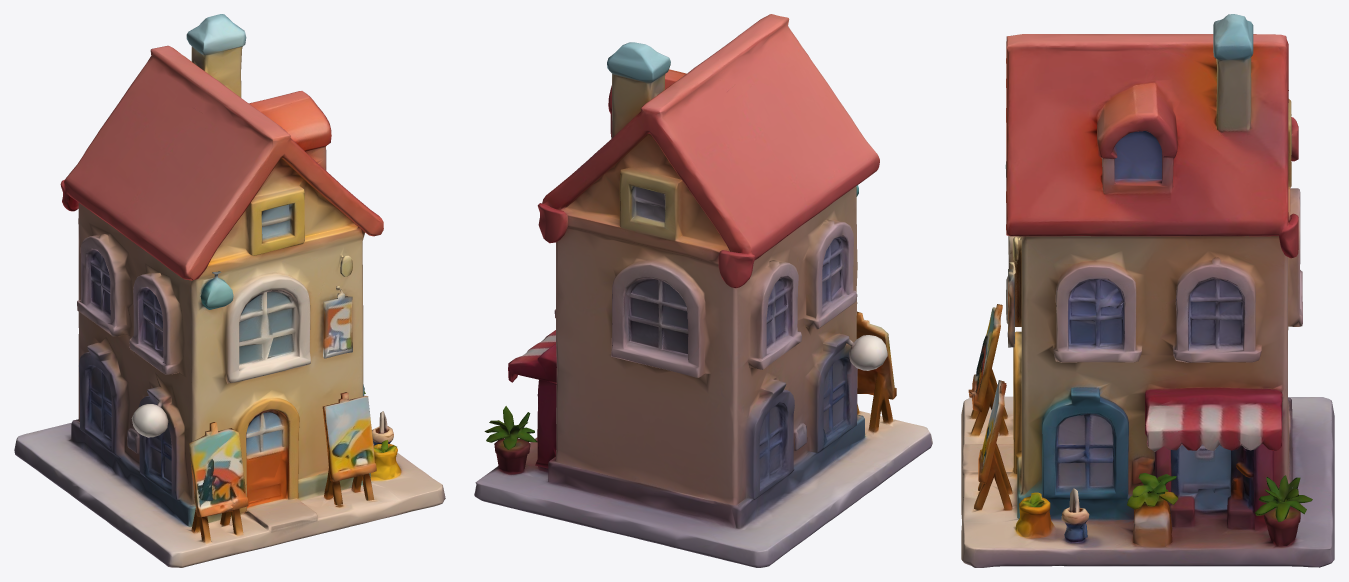
File: dafen.glb
3 renders of one model, left to right at view 1: azimuth 30°, elevation 25°; view 2: azimuth 150°, elevation 25°; view 3: azimuth 270°, elevation 25°, orthographic. The views are drawn at different scales.
Visible parts, largest first — view 1: tripo_node_7fbf94ac-69f9-4a9d-a2ca-3c1eb6e32b62; view 2: tripo_node_7fbf94ac-69f9-4a9d-a2ca-3c1eb6e32b62; view 3: tripo_node_7fbf94ac-69f9-4a9d-a2ca-3c1eb6e32b62.
Part boxes in pixels (x1=…): tripo_node_7fbf94ac-69f9-4a9d-a2ca-3c1eb6e32b62: x1=14, y1=14, x2=445, y2=567; tripo_node_7fbf94ac-69f9-4a9d-a2ca-3c1eb6e32b62: x1=474, y1=14, x2=932, y2=567; tripo_node_7fbf94ac-69f9-4a9d-a2ca-3c1eb6e32b62: x1=961, y1=14, x2=1334, y2=567.
Size of the model in its own units: 0.7058 by 1 by 0.6952.
Materials: 1 (1 with a texture image).
